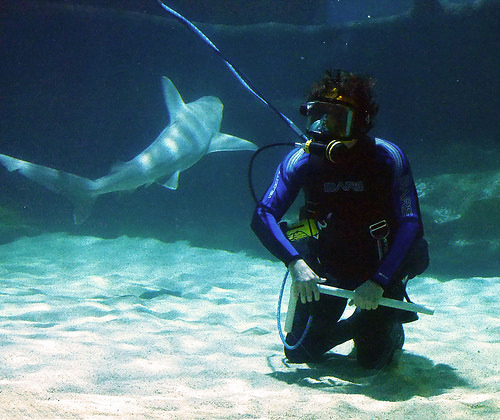shark: (8, 51, 262, 231)
